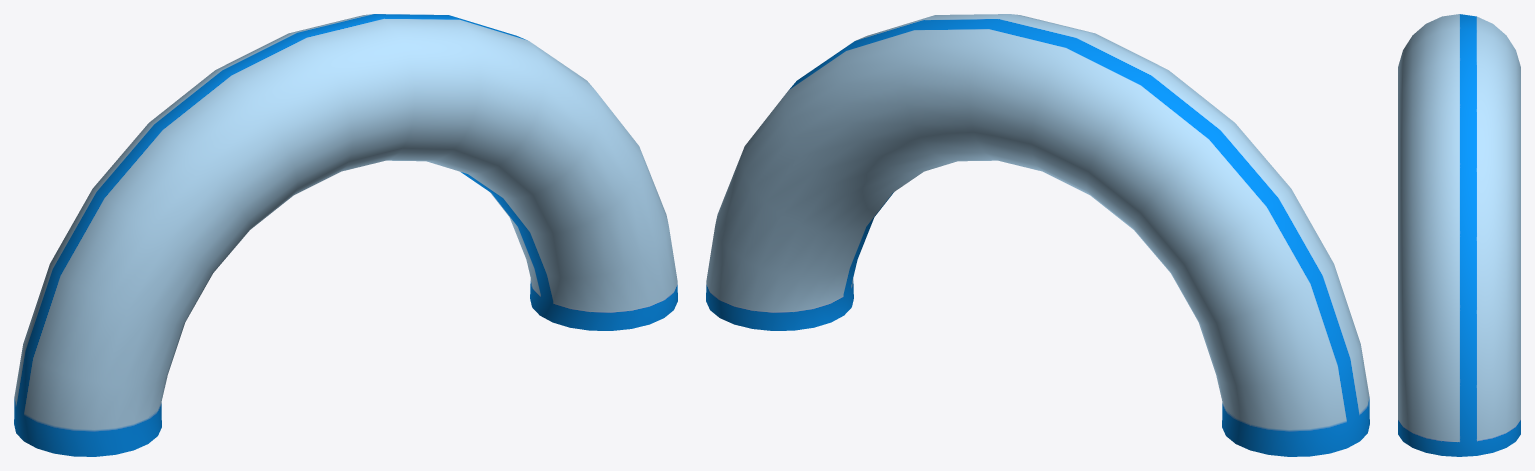
File: FUT0110024.fbx
3 views of the same model, side by side, from view 1: azimuth 30°, elevation 25°; view 2: azimuth 150°, elevation 25°; view 3: azimuth 270°, elevation 25° (orthographic). The views are drawn at different scales.
Visible parts, largest first — view 1: smFUT0110024; view 2: smFUT0110024; view 3: smFUT0110024.
Boxes of the visible parts, bbox=[...] form: smFUT0110024: bbox=[14, 14, 677, 456]; smFUT0110024: bbox=[706, 14, 1369, 456]; smFUT0110024: bbox=[1398, 14, 1520, 456].
Size of what is drawn, in the model's own units: 1078 by 535 by 212.
1 material, 1 textured.
